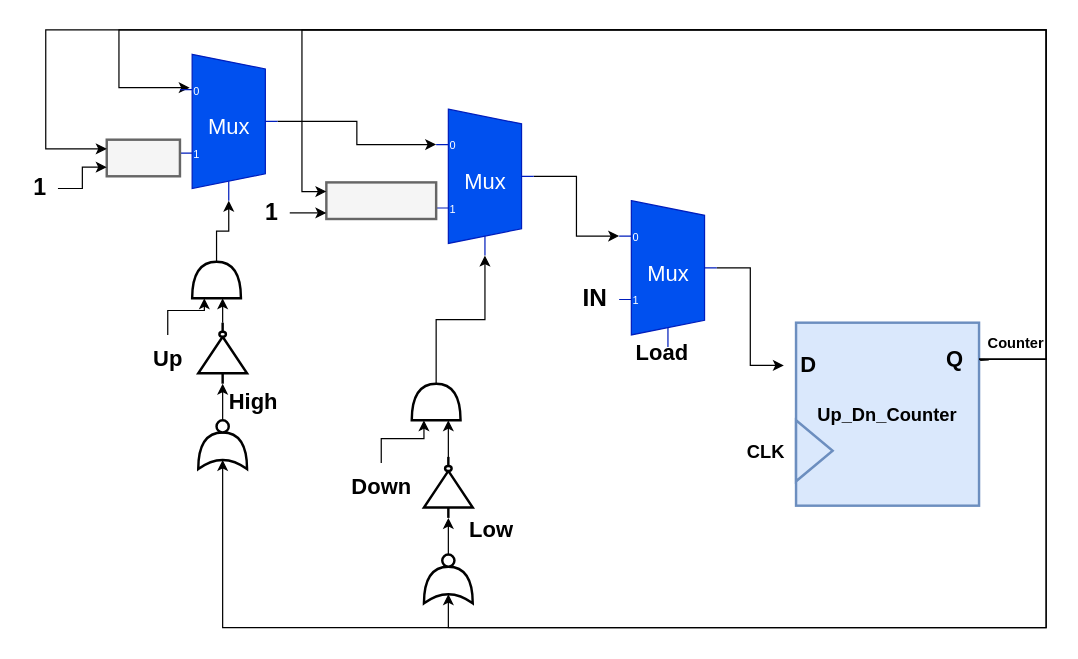
Image size: 1078x659. Some labels were removed from this diagram. The centre of each missing label's shape, as x and y in pixels:
Adder: (x=143, y=157)
Subtractor: (x=381, y=200)
